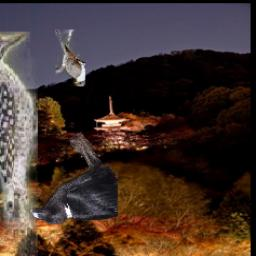Crow: (29, 132, 118, 224)
Cuckoo: (55, 29, 85, 86)
Woodpecker: (0, 32, 38, 256)
